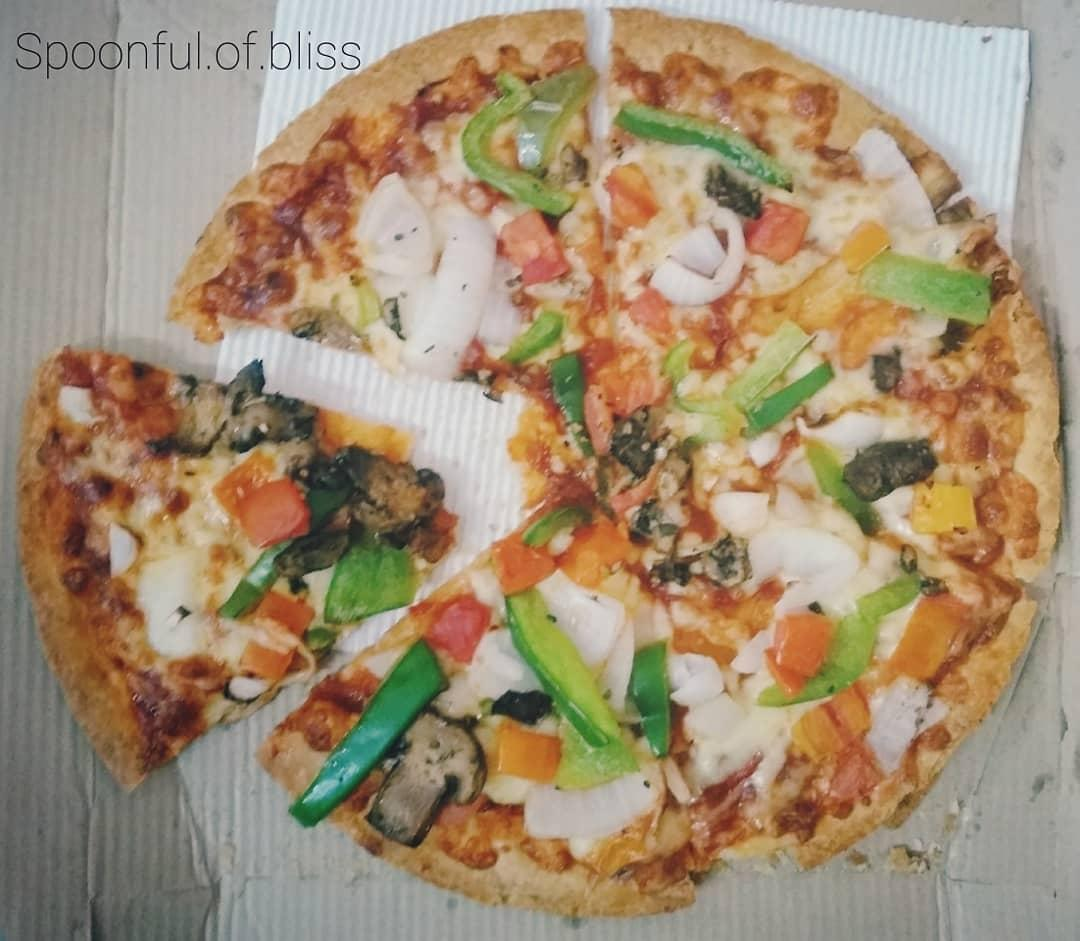Mushroom: (370, 709, 464, 850), (338, 448, 440, 534), (213, 358, 278, 441), (650, 529, 744, 583), (841, 436, 937, 488)
Onion: (400, 230, 498, 381), (521, 772, 658, 846), (854, 124, 939, 233), (353, 173, 437, 281), (645, 222, 746, 305), (751, 528, 865, 574)
Peppers: (284, 644, 441, 832), (764, 575, 918, 703), (464, 69, 598, 213), (503, 587, 622, 748), (612, 97, 794, 188), (667, 329, 833, 426), (857, 250, 993, 325), (629, 643, 673, 757), (545, 355, 594, 452)
Pizza: (23, 14, 1069, 911)
Tomatoes: (498, 212, 582, 285), (770, 612, 832, 689), (235, 484, 313, 540), (747, 196, 815, 260), (486, 724, 559, 782), (426, 604, 489, 656), (490, 543, 560, 587), (603, 165, 649, 226)
